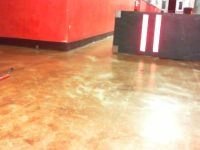switch: (140, 14, 149, 52), (153, 14, 162, 52)
